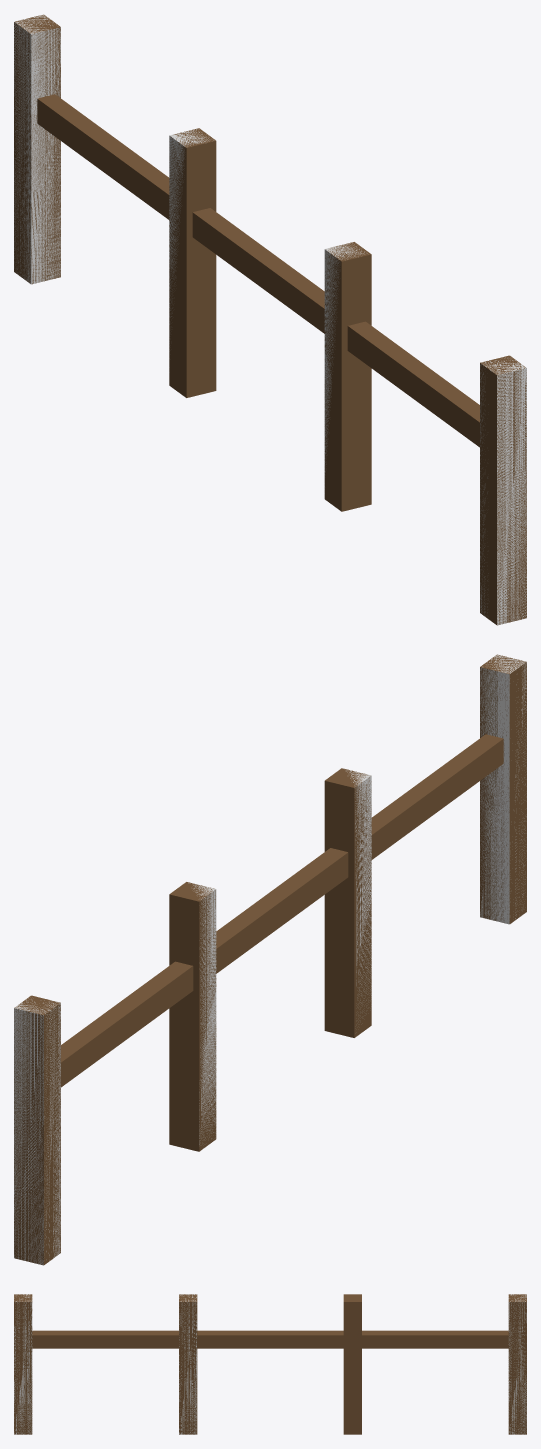
Rendered from prop-fence.glb.
The picture shows the model from 3 angles, top to bottom: view 1: azimuth 30°, elevation 25°; view 2: azimuth 150°, elevation 25°; view 3: azimuth 270°, elevation 25°; orthographic projection. The views are drawn at different scales.
Visible parts, largest first — view 1: 00_#7a5a3a_r320, solid, solid.003, solid.002, solid.001; view 2: 00_#7a5a3a_r320, solid, solid.003, solid.001, solid.002; view 3: 00_#7a5a3a_r320, solid.003, solid.002, solid.
Part boxes in pixels (left/top/right/bottom): 00_#7a5a3a_r320: left=14, top=14, right=526, bottom=625; solid: left=14, top=14, right=60, bottom=284; solid.003: left=480, top=357, right=526, bottom=624; solid.002: left=324, top=243, right=367, bottom=472; solid.001: left=169, top=129, right=213, bottom=324; 00_#7a5a3a_r320: left=14, top=654, right=526, bottom=1265; solid: left=14, top=998, right=60, bottom=1265; solid.003: left=480, top=655, right=526, bottom=924; solid.001: left=188, top=883, right=216, bottom=1144; solid.002: left=346, top=770, right=371, bottom=1003; 00_#7a5a3a_r320: left=14, top=1294, right=526, bottom=1434; solid.003: left=14, top=1294, right=32, bottom=1434; solid.002: left=179, top=1294, right=196, bottom=1434; solid: left=508, top=1294, right=526, bottom=1434.
Bounding box in the file's own units: 0.1 × 0.8 × 2.8.
